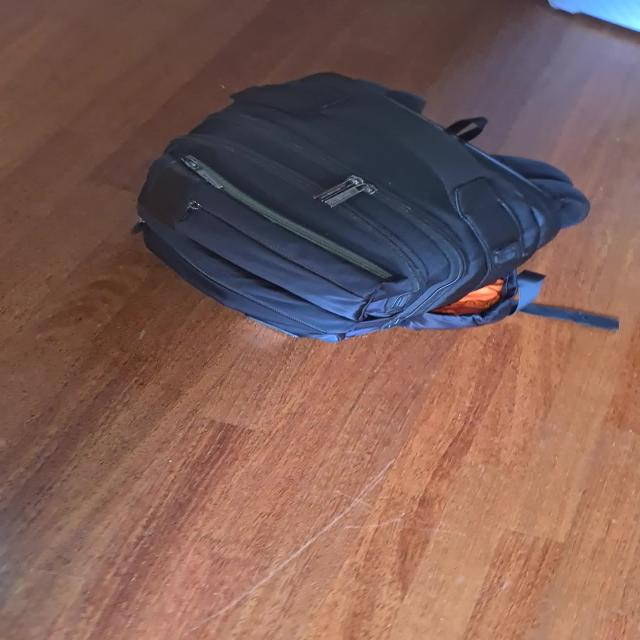backpack: (118, 61, 598, 346)
